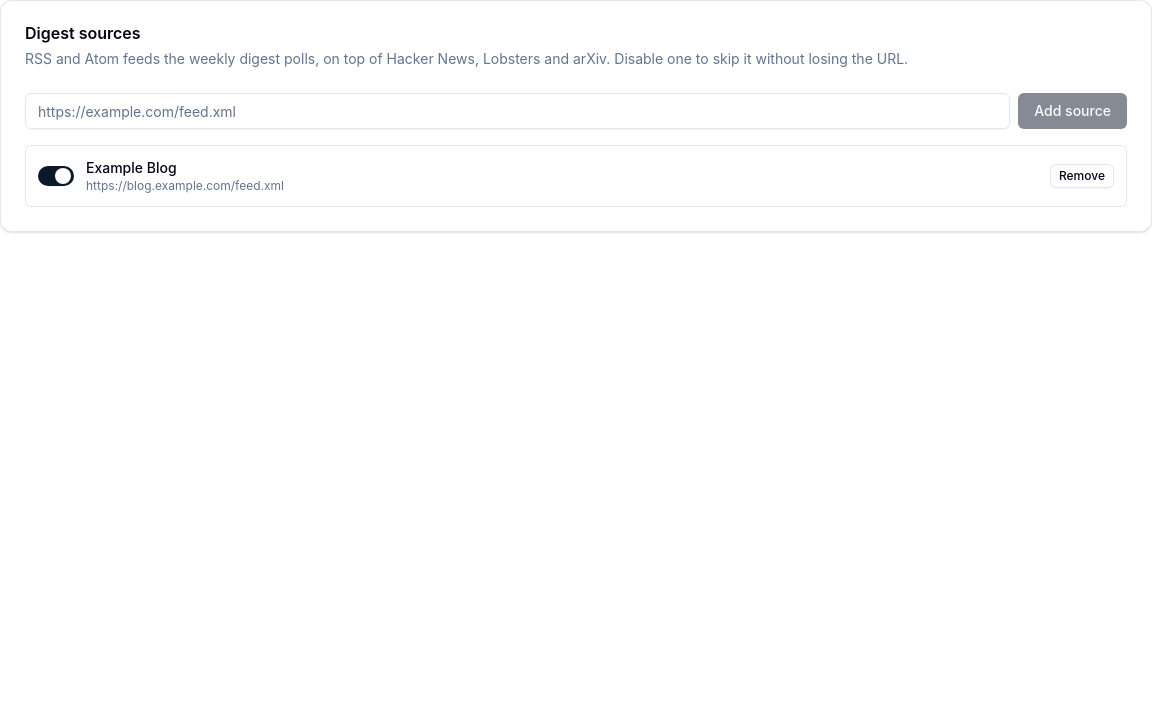
it: DigestSourcesCard › does nothing when the remove confirmation is cancelled
The image size is (1152, 720).
Click the button with aria-label "Remove source: Example Blog": x=1082, y=176 [1050,164,1114,188]
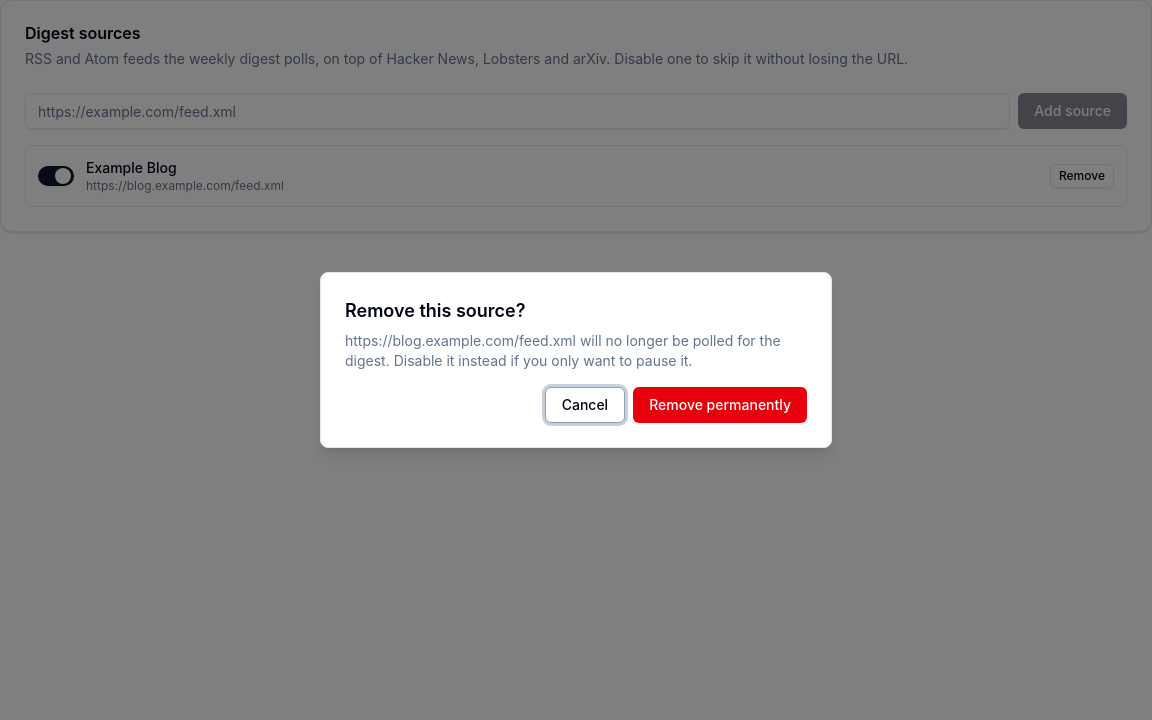
Now the heading "Remove this source?" is shown, box [345,297,526,325]
Now the dialog shows "https://blog.example.com/feed.xml", box [345,332,781,369]
Click the button "Cancel": x=585, y=405 [545,387,625,423]
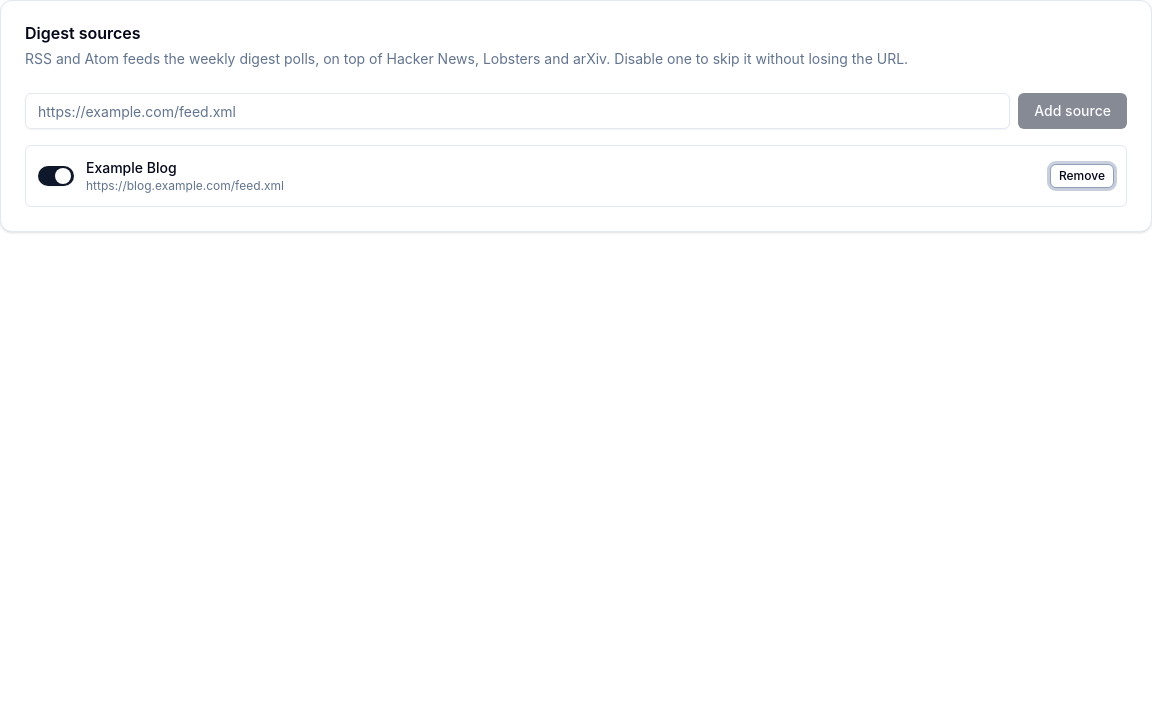
Expected: the text "Example Blog" is shown, [86,159,177,176]
Now the dialog is gone
